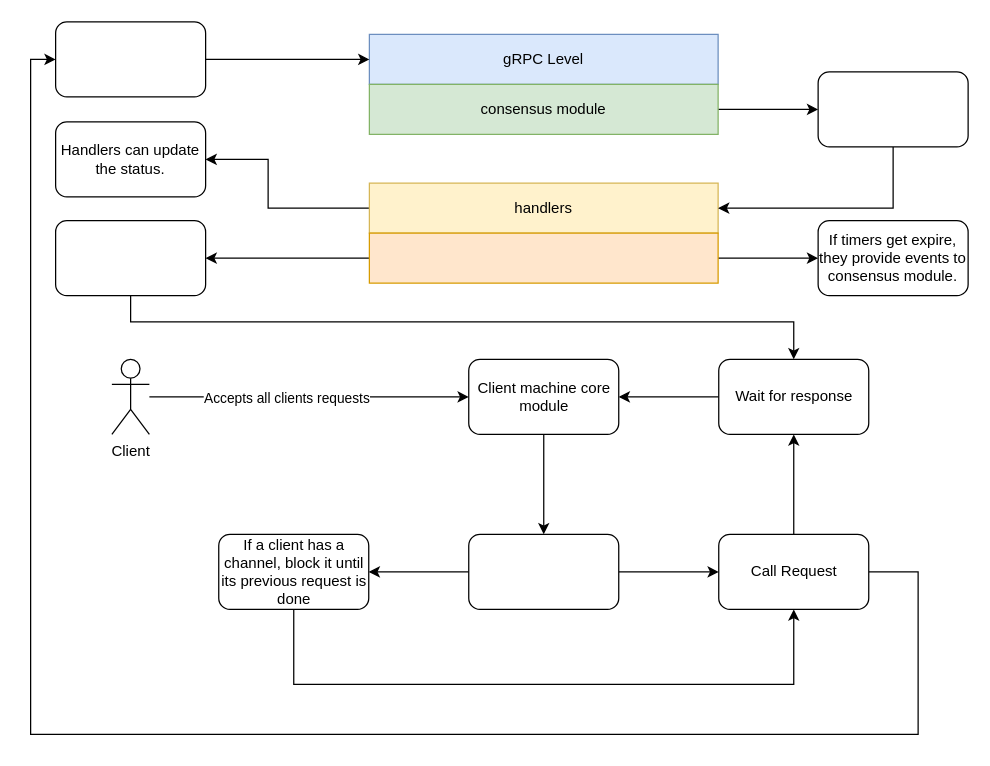
Image size: 990x766. Some labels were removed from this diagram. Each missing label, with the centre of its shape:
A dispatcher with buffered channel of size 2*total nodes: the point at 892,109
A map of channels and clients: the point at 543,571
Every call from client and other nodes.: the point at 130,59
gadgets & timers: the point at 543,257
Gadgets handle events and return RPC calls.: the point at 130,257
